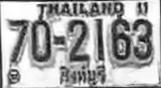0: (30, 18, 51, 62)
1: (95, 18, 103, 60)
2: (68, 19, 88, 61)
3: (132, 18, 152, 61)
6: (110, 18, 130, 60)
7: (6, 18, 28, 64)
SBR: (58, 64, 107, 88)
